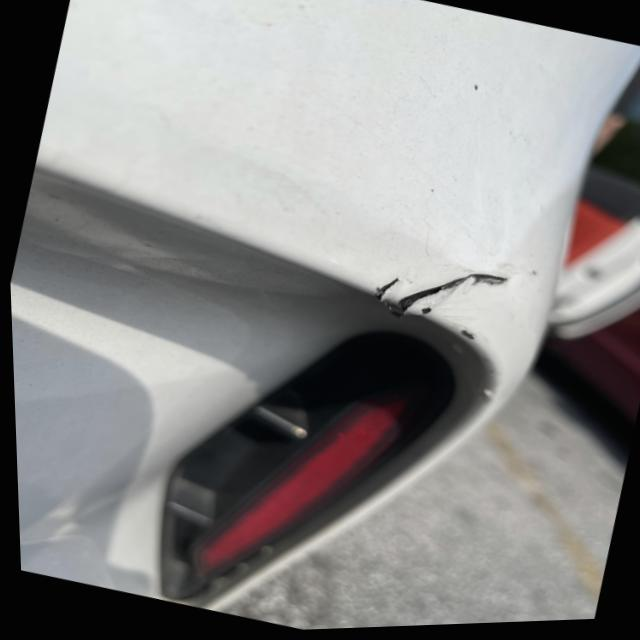Crack: (361, 263, 521, 322)
